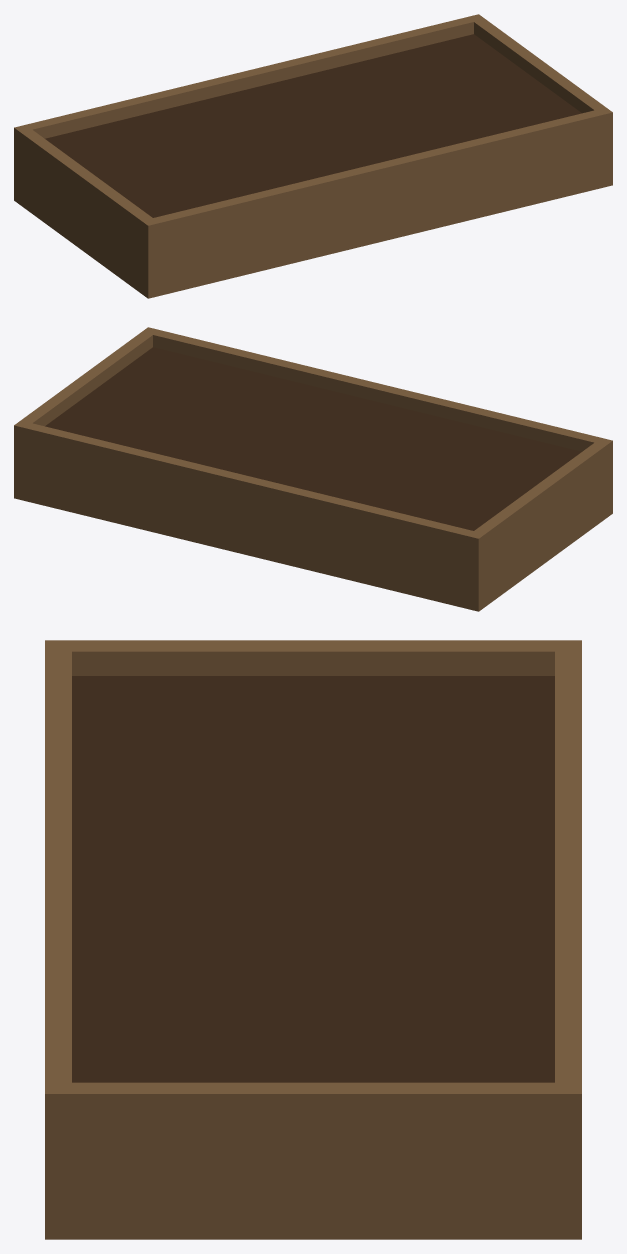
File: garden bed.glb
3 views of the same model, one above another, from view 1: azimuth 30°, elevation 25°; view 2: azimuth 150°, elevation 25°; view 3: azimuth 270°, elevation 25° (orthographic). The views are drawn at different scales.
Visible parts, largest first — view 1: garden bed; view 2: garden bed; view 3: garden bed.
Part boxes in pixels (x1=…): garden bed: x1=14, y1=14, x2=612, y2=298; garden bed: x1=14, y1=327, x2=612, y2=611; garden bed: x1=45, y1=640, x2=581, y2=1239.
Size of the model in its own units: 2 by 0.3 by 1.
